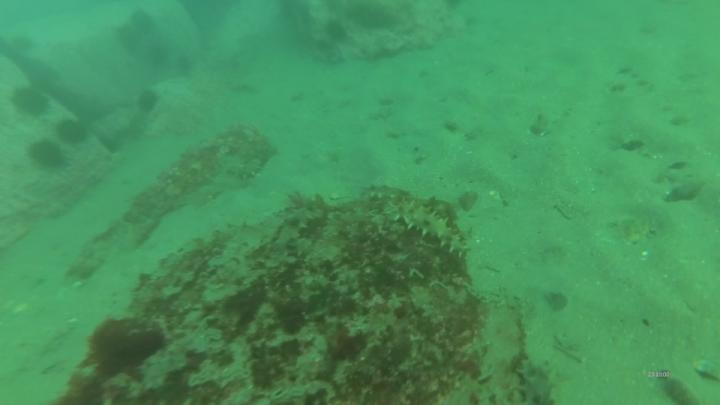echinus: (9, 85, 52, 118), (25, 137, 65, 171), (55, 117, 94, 149), (136, 87, 160, 113)
holothurian: (388, 198, 475, 257), (515, 360, 564, 405)
waterweeds: (76, 315, 167, 380)
